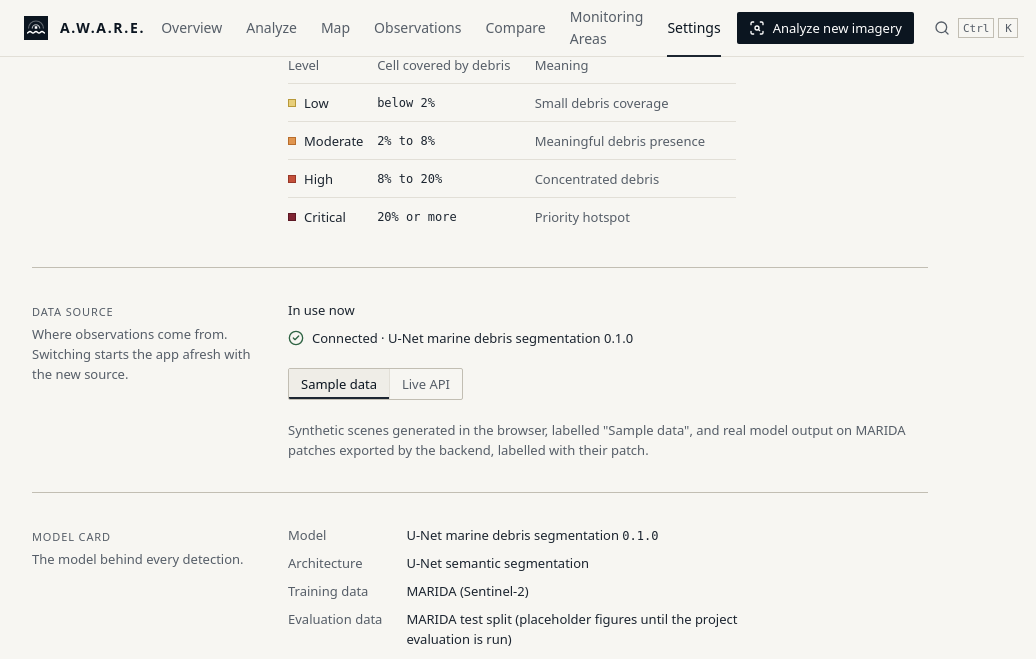
it: Settings page › explains an unreachable service
(page scrolled)
Click the radio button labelled "Live API".
click(425, 384)  # box [389, 369, 462, 399]
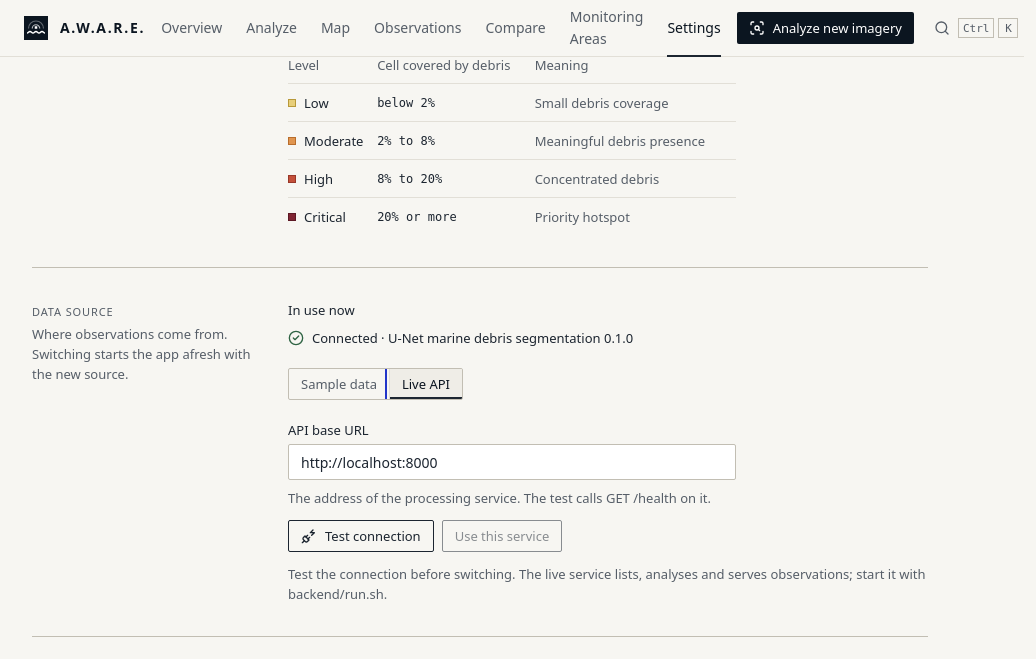
Click the button "Test connection".
click(361, 536)  # box [288, 520, 434, 552]
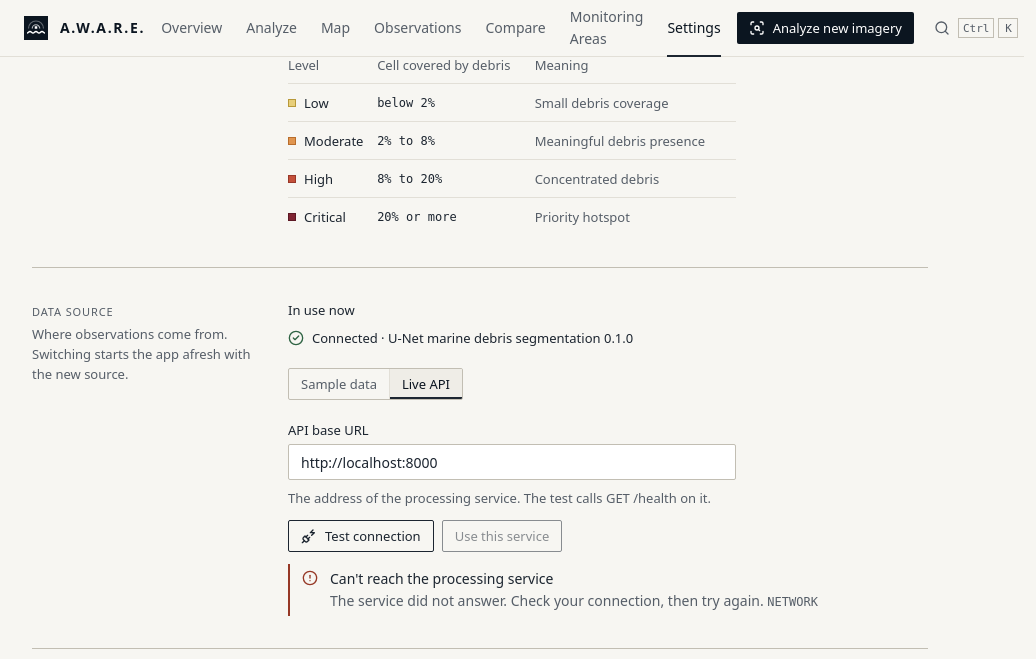
Check: the button "Use this service" is disabled, box [442, 520, 562, 552]
Check: the text "Can't reach the processing service" is shown, box [330, 569, 553, 588]
